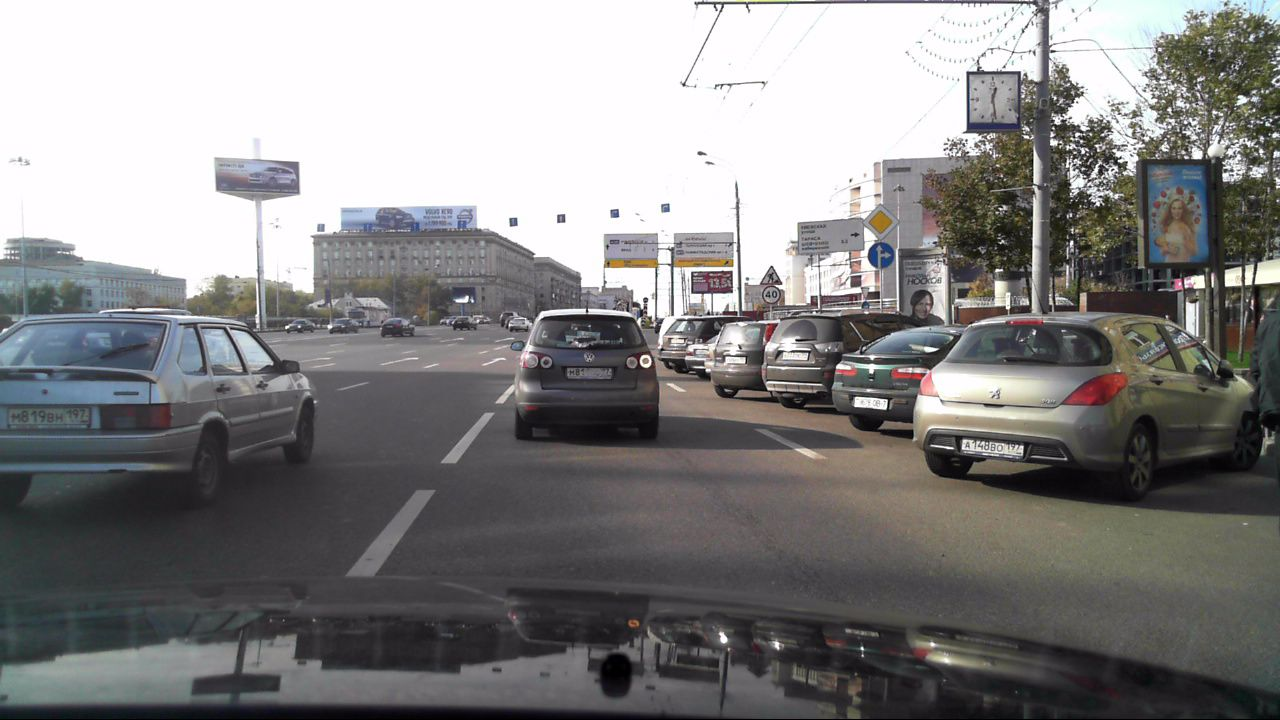speed_warning_40: (761, 285, 781, 304)
